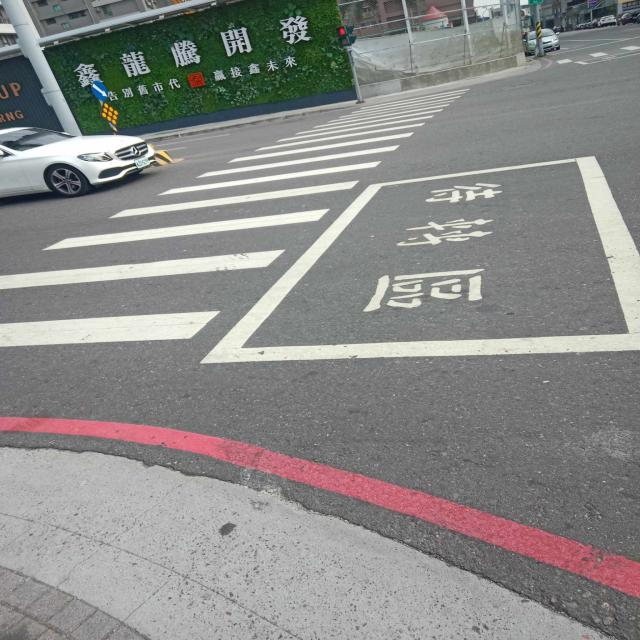zebra crossing: (0, 84, 482, 352), (557, 44, 639, 64)
